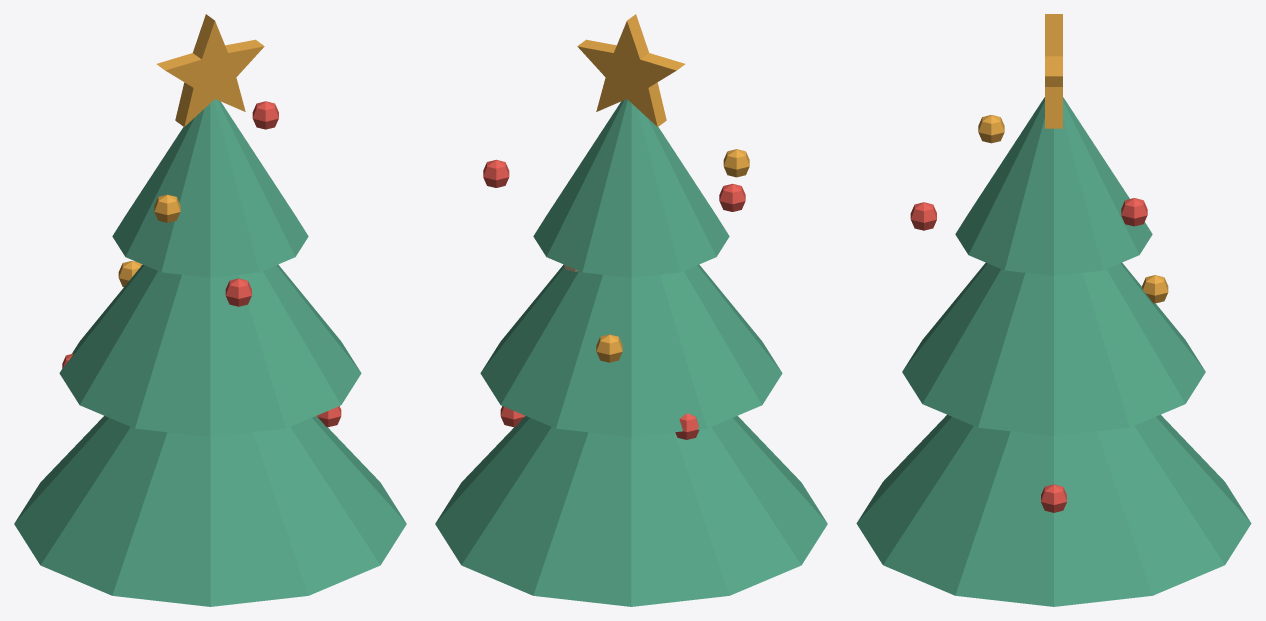
The model's file is ParkParkDecorXmasTree.obj.
The picture shows the model from 3 angles, left to right: view 1: azimuth 30°, elevation 25°; view 2: azimuth 150°, elevation 25°; view 3: azimuth 270°, elevation 25°; orthographic projection.
Visible parts, largest first — view 1: ParkParkDecorXmasTree; view 2: ParkParkDecorXmasTree; view 3: ParkParkDecorXmasTree.
Part boxes in pixels (x1=…): ParkParkDecorXmasTree: x1=14, y1=14, x2=406, y2=606; ParkParkDecorXmasTree: x1=435, y1=14, x2=827, y2=606; ParkParkDecorXmasTree: x1=856, y1=14, x2=1251, y2=606.
Size of the model in its own units: 5.2 by 8.4 by 5.2.
